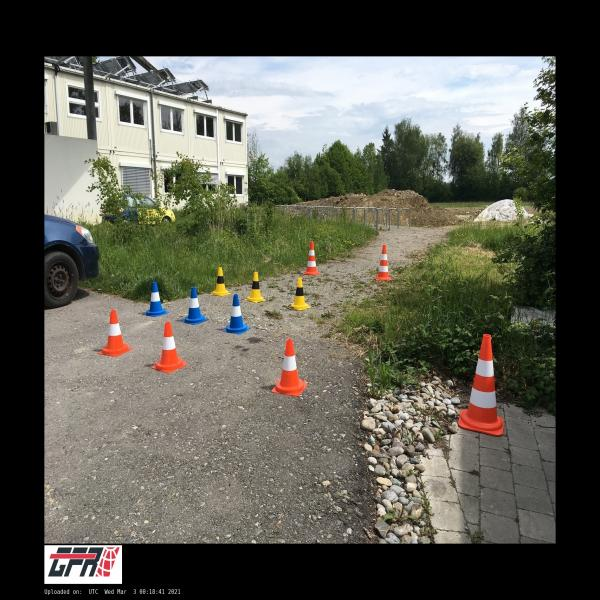blue_cone: (224, 295, 251, 334), (182, 286, 208, 324), (142, 281, 169, 317)
large_orange_cone: (458, 334, 504, 436), (376, 244, 392, 280), (303, 240, 319, 274)
orange_cone: (149, 322, 188, 373), (272, 340, 307, 396), (98, 310, 132, 357)
yellow_cone: (290, 278, 311, 310), (245, 272, 266, 302), (211, 267, 231, 296)
